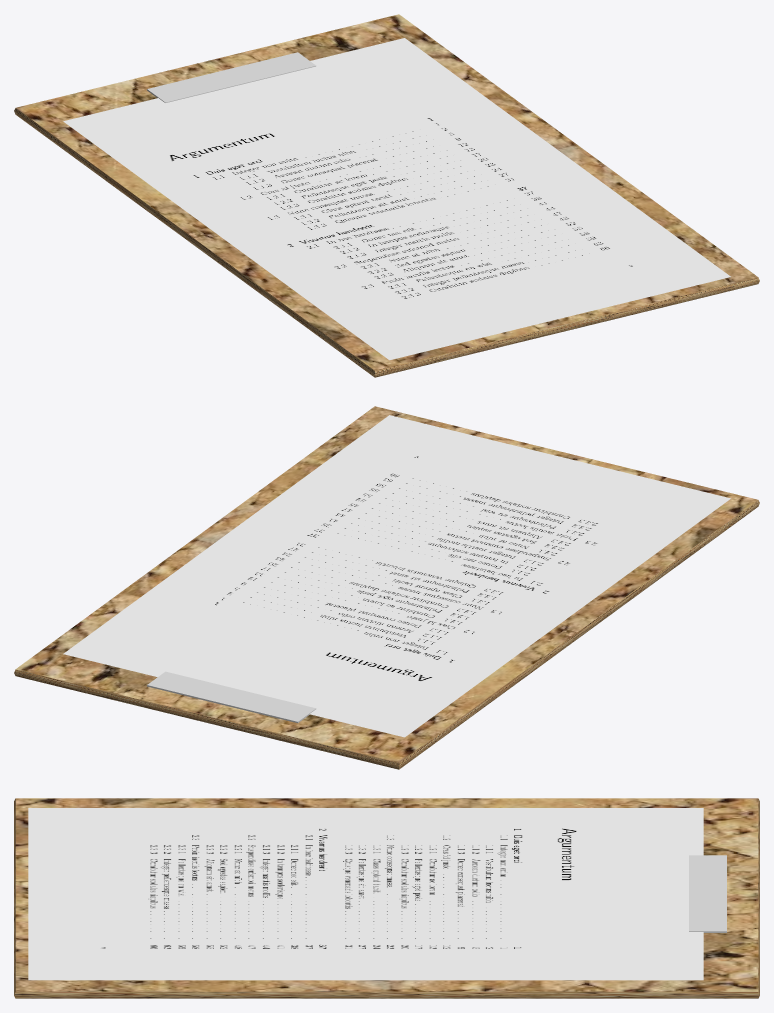
Rendered from paperpad.fbx.
The picture shows the model from 3 angles, top to bottom: view 1: azimuth 30°, elevation 25°; view 2: azimuth 150°, elevation 25°; view 3: azimuth 270°, elevation 25°; orthographic projection. The views are drawn at different scales.
Visible parts, largest first — view 1: Cube.001, Cube, Cube.002; view 2: Cube.001, Cube, Cube.002; view 3: Cube.001, Cube, Cube.002.
Part boxes in pixels (left/top/right/bottom): Cube.001: left=63, top=38, right=730, bottom=360; Cube: left=14, top=14, right=759, bottom=377; Cube.002: left=147, top=52, right=315, bottom=102; Cube.001: left=63, top=415, right=730, bottom=737; Cube: left=14, top=406, right=759, bottom=769; Cube.002: left=147, top=671, right=316, bottom=723; Cube.001: left=28, top=808, right=703, bottom=980; Cube: left=14, top=798, right=759, bottom=998; Cube.002: left=689, top=855, right=726, bottom=932.
Size of the model in its own units: 520 by 10.86 by 844.
